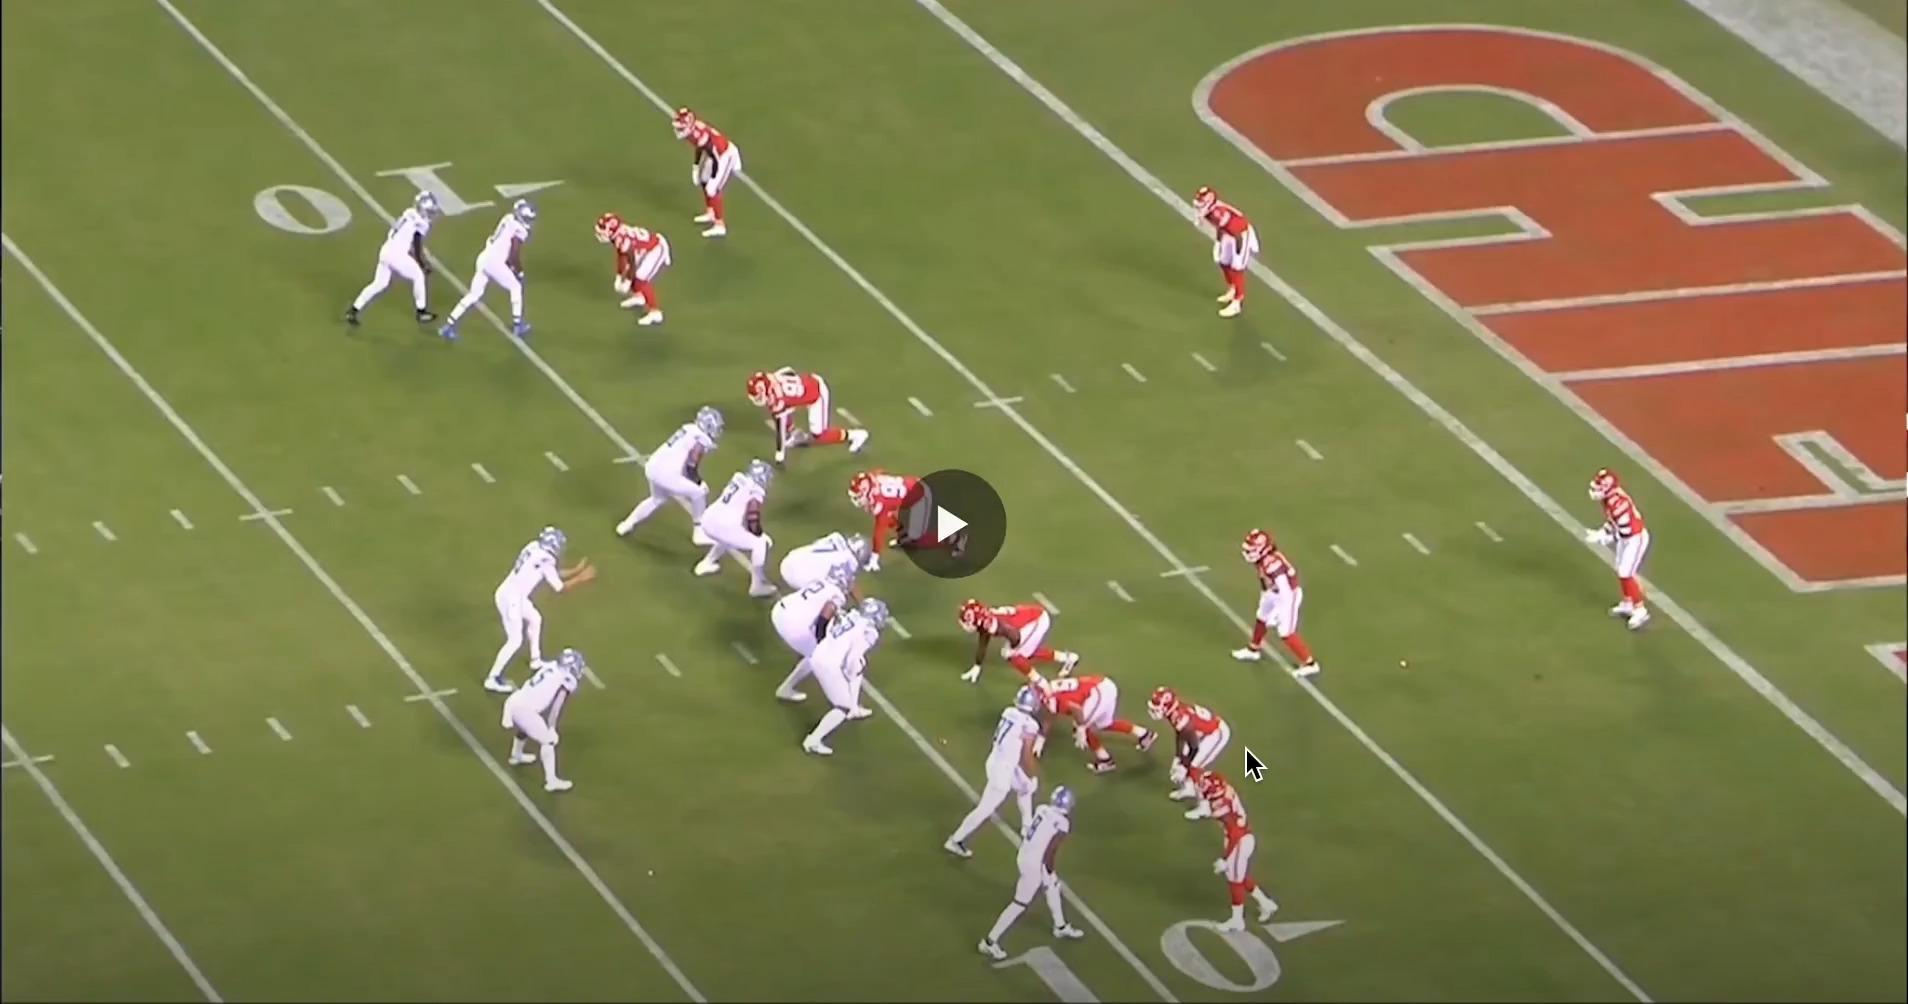defense: (1147, 689, 1274, 827), (1238, 524, 1330, 683), (1025, 668, 1159, 777), (1202, 768, 1287, 934), (746, 373, 874, 470), (853, 473, 979, 571), (1590, 467, 1661, 637), (955, 599, 1080, 692), (666, 105, 744, 245), (1186, 181, 1258, 321), (597, 207, 677, 327)
oline: (615, 408, 728, 551), (798, 599, 891, 761), (772, 562, 860, 704), (694, 463, 778, 599), (778, 534, 873, 618)
qb: (490, 525, 586, 696)
skill: (986, 785, 1100, 967), (948, 680, 1056, 863), (335, 190, 443, 334), (438, 199, 541, 349), (508, 640, 599, 791)
